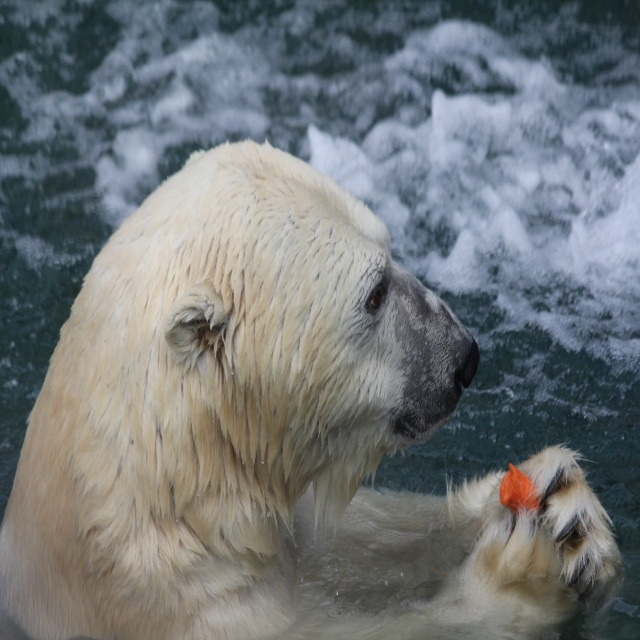Polar bear: (0, 134, 622, 639)
